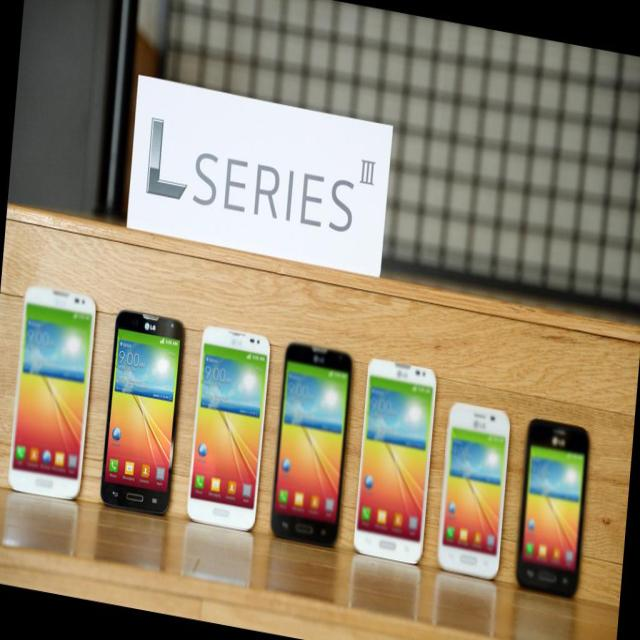handphone: (103, 310, 186, 515), (16, 283, 92, 504), (360, 355, 435, 563), (274, 335, 346, 540), (519, 412, 590, 598), (194, 324, 261, 521), (443, 399, 506, 577)
